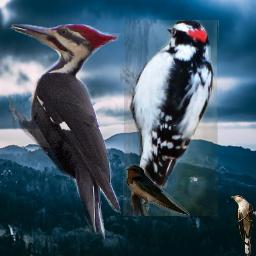Cuckoo: (231, 195, 253, 256)
Swallow: (124, 164, 190, 217)
Woodpecker: (9, 24, 121, 239), (120, 20, 219, 216)
